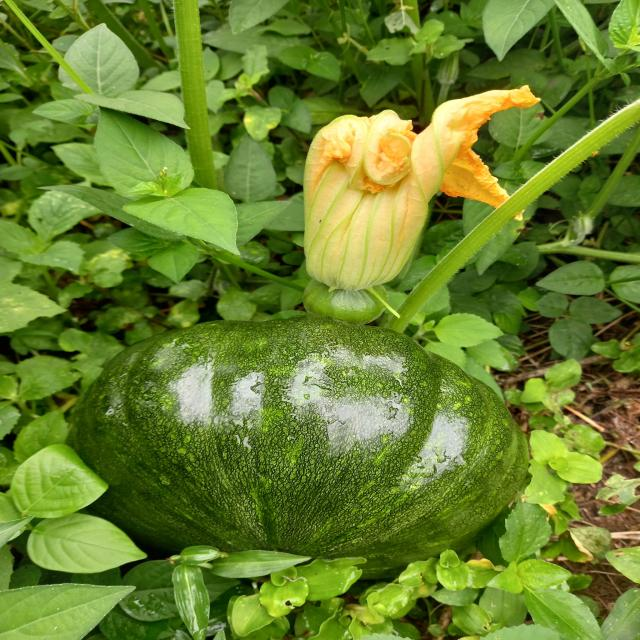flower: (294, 82, 554, 291)
squash: (72, 316, 532, 545)
